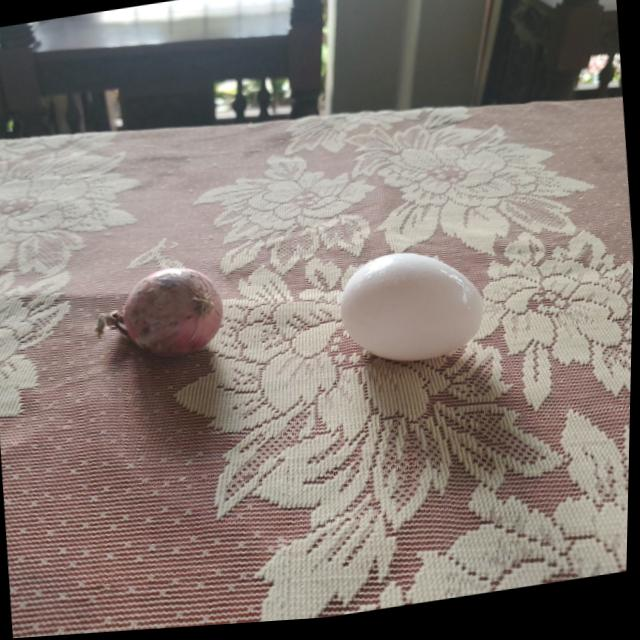egg: (340, 247, 489, 374)
onion: (93, 260, 226, 368)
